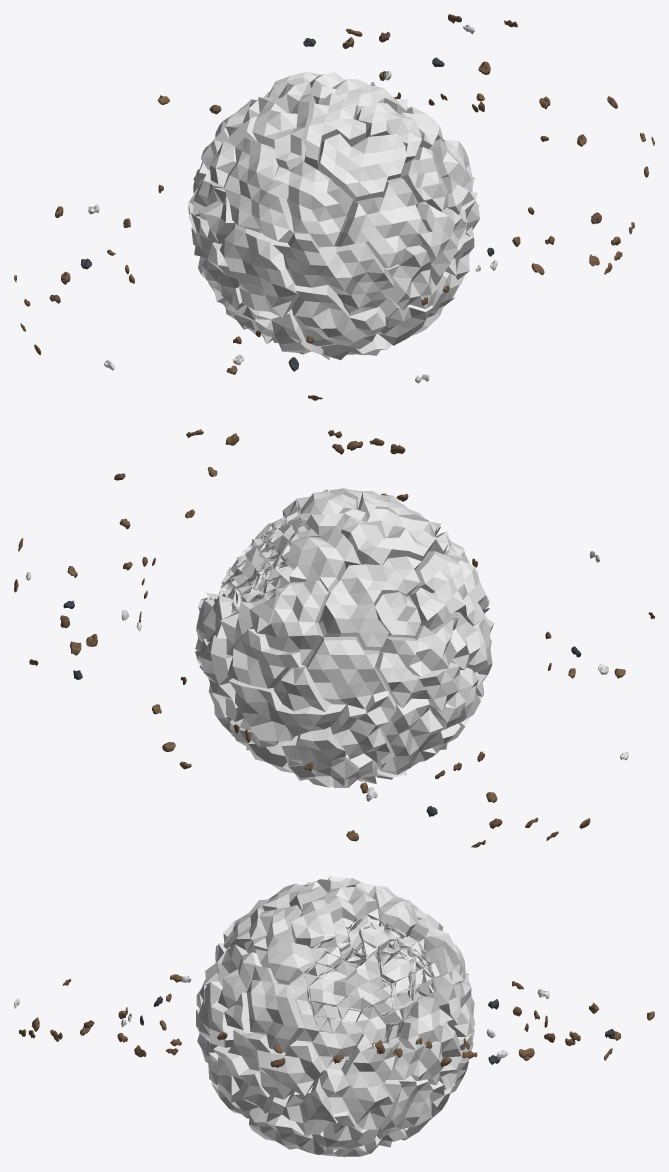
Rendered from Protoplanet.fbx.
The picture shows the model from 3 angles, top to bottom: view 1: azimuth 30°, elevation 25°; view 2: azimuth 150°, elevation 25°; view 3: azimuth 270°, elevation 25°; orthographic projection. The views are drawn at different scales.
Visible parts, largest first — view 1: CORE, Torus; view 2: CORE, Torus; view 3: CORE, Torus.
Boxes of the visible parts, bbox=[...] form: CORE: bbox=[188, 72, 479, 360]; Torus: bbox=[14, 14, 654, 400]; CORE: bbox=[195, 488, 493, 787]; Torus: bbox=[14, 429, 654, 847]; CORE: bbox=[196, 876, 474, 1157]; Torus: bbox=[14, 974, 654, 1067].
Size of the model in its own units: 1154 by 560 by 1278.
